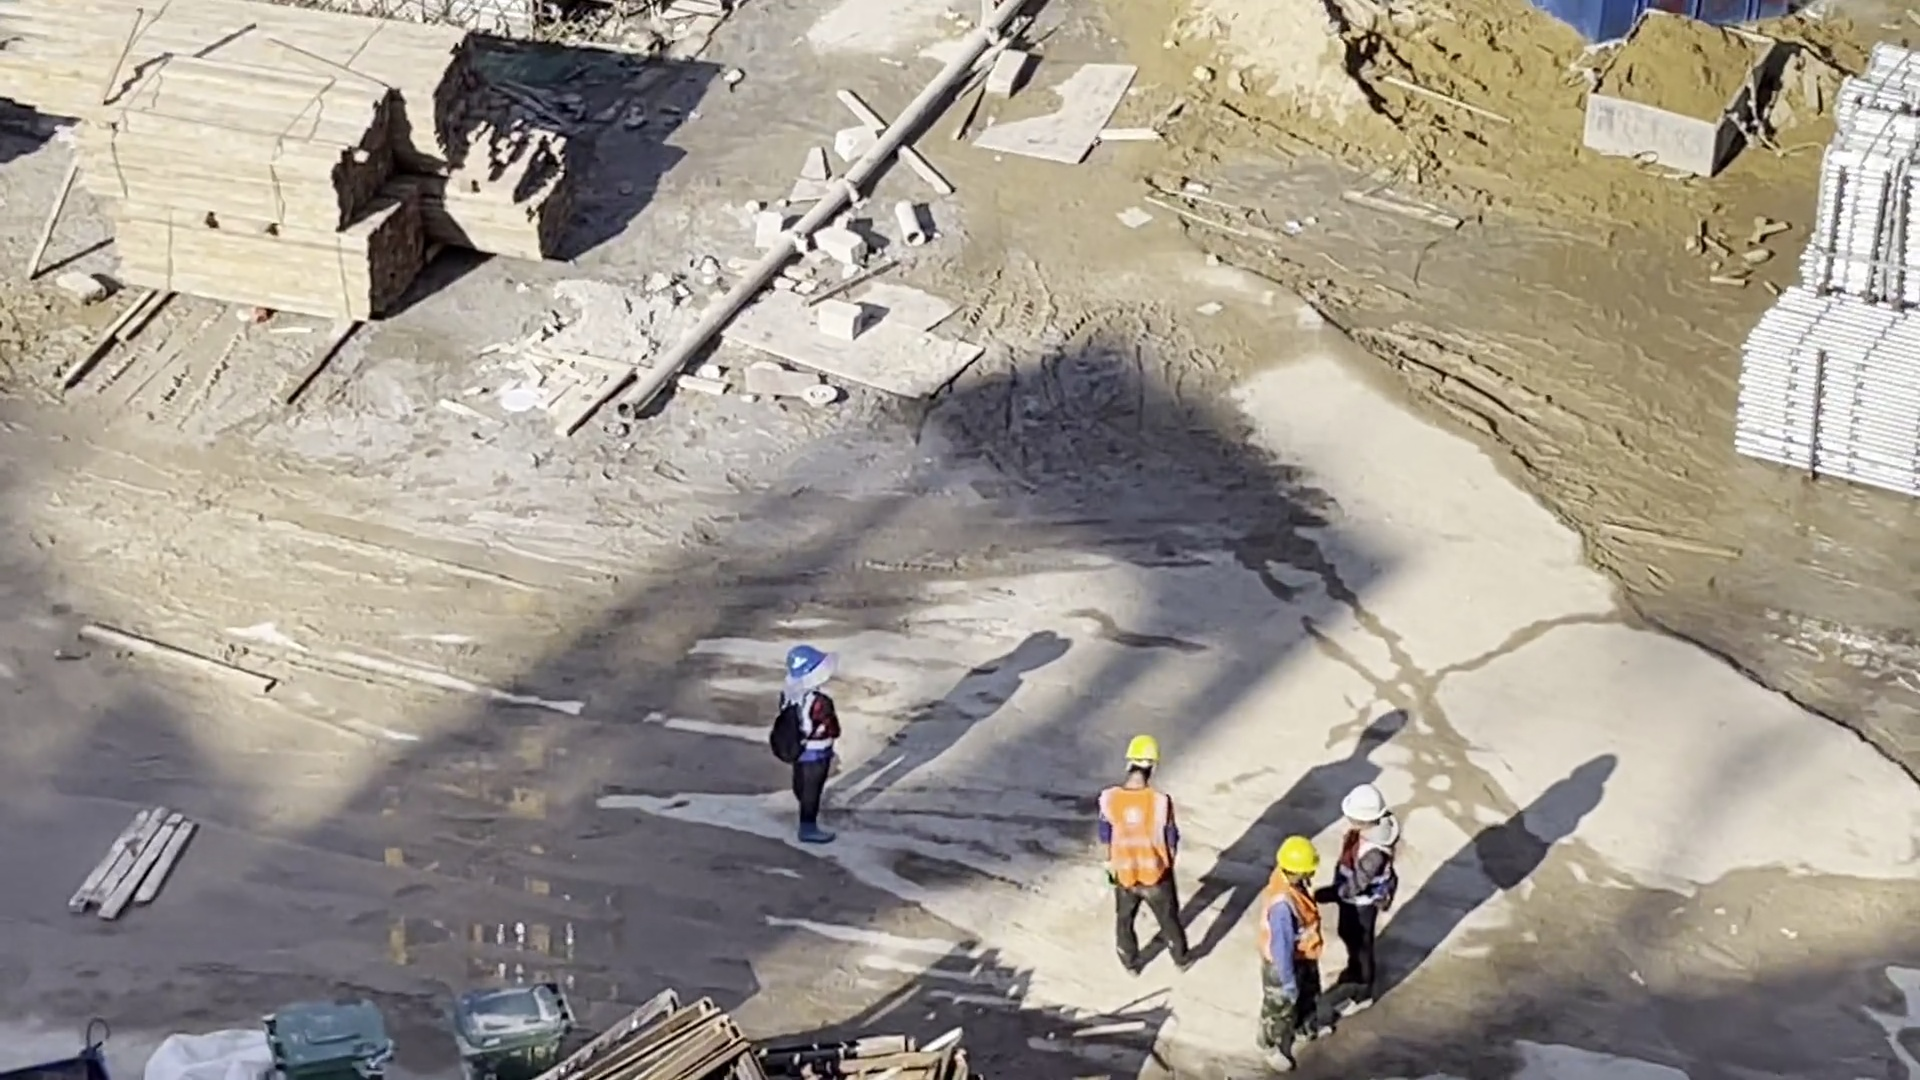helmet: (1278, 835, 1317, 873), (1343, 788, 1383, 822), (788, 649, 827, 681), (1125, 733, 1158, 765)
hopper: (1586, 11, 1773, 180)
person: (1094, 737, 1190, 972), (1255, 834, 1327, 1073), (1325, 791, 1398, 1023), (781, 647, 846, 849)
scaffold: (1738, 287, 1920, 497), (1816, 54, 1920, 289)
vest: (1102, 789, 1170, 885), (1269, 880, 1323, 957), (786, 695, 836, 761)
wood: (73, 69, 420, 316), (1, 1, 454, 149)
